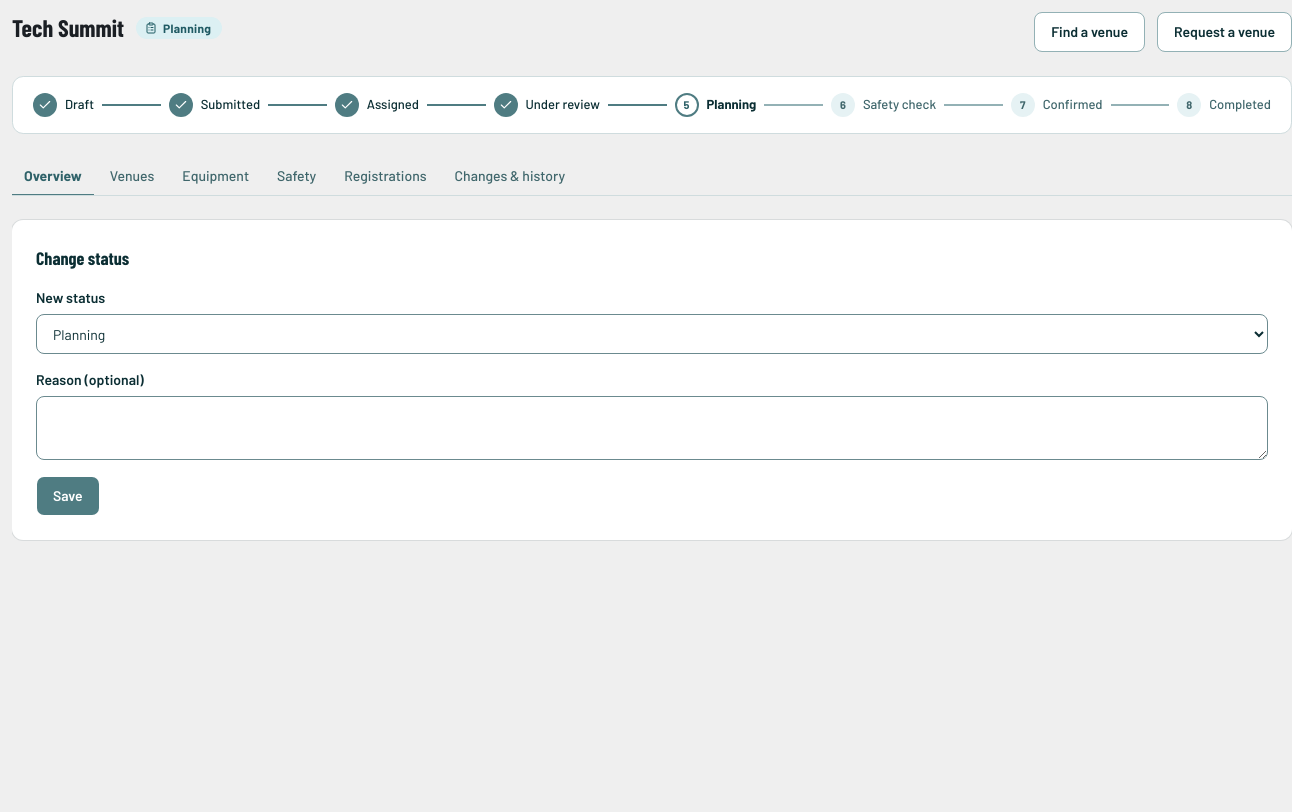
Test: SCRUM-174 — Cancel an event on the event page › 174-S13 SCRUM-174/AC1: asks for a reason once Cancelled is chosen, and says who will see it
Select "Cancelled" in the dropdown labelled "New status" at {"x": 652, "y": 334}, box [36,314,1268,354]
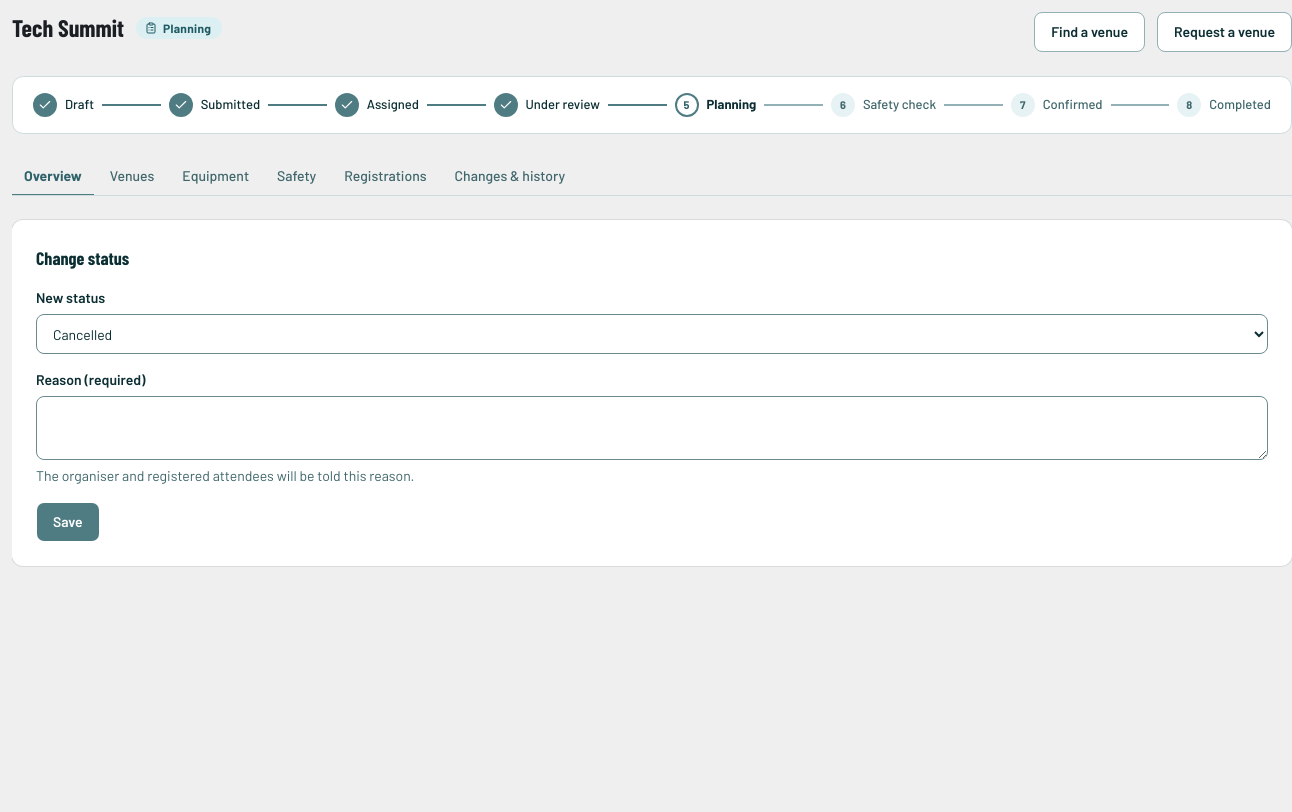
Check: the text "The organiser and registered attendees will be told this reason." is shown, box [36,467,414,484]
